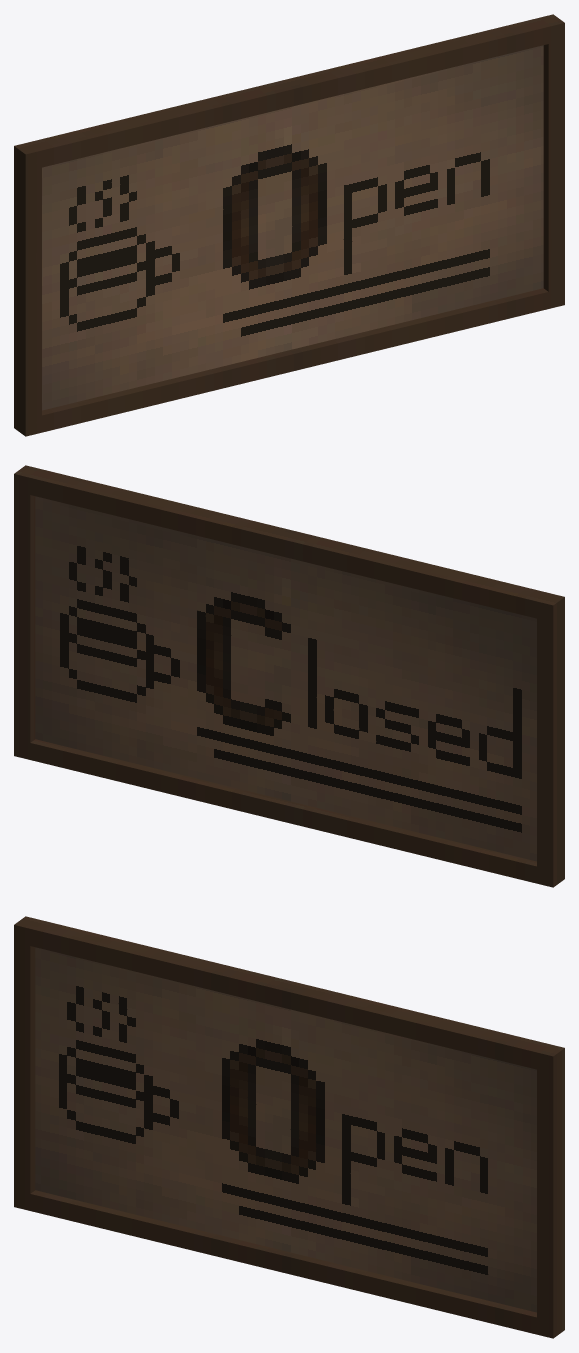
File: CloseOpen.fbx
3 renders of one model, top to bottom at view 1: azimuth 30°, elevation 25°; view 2: azimuth 150°, elevation 25°; view 3: azimuth 330°, elevation 25°, orthographic.
Parts seen in each view (by area): view 1: CloseOpen; view 2: CloseOpen; view 3: CloseOpen.
Boxes of the visible parts, x1,y1,x2,y2 form: CloseOpen: (14, 14, 564, 436); CloseOpen: (14, 465, 564, 887); CloseOpen: (14, 916, 564, 1338).
Bounding box in the file's own units: 400 × 200 × 15.
Materials: 1 (1 with a texture image).
